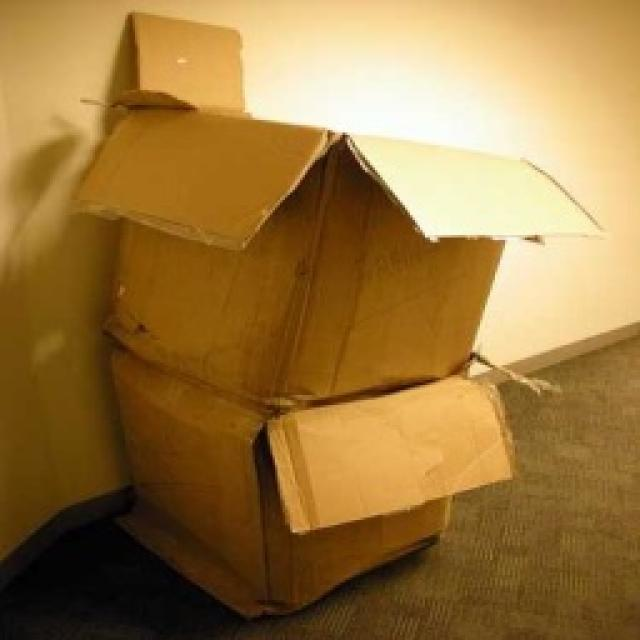box: (118, 41, 510, 396), (122, 346, 494, 597)
